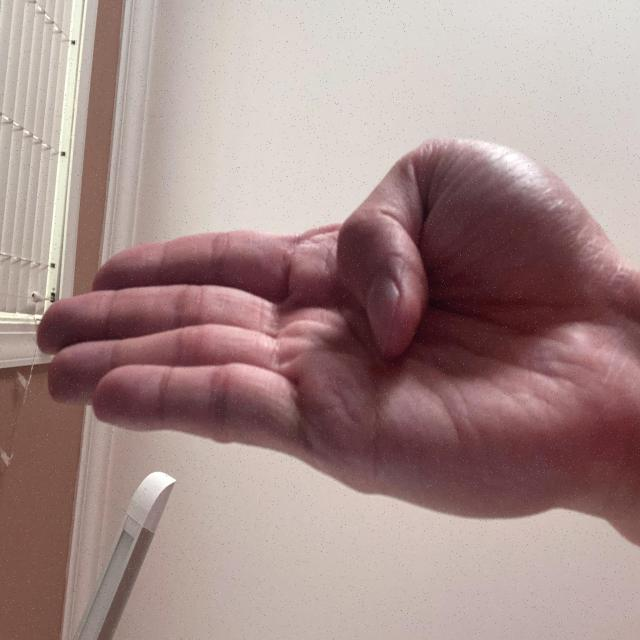B: (78, 36, 383, 640)
